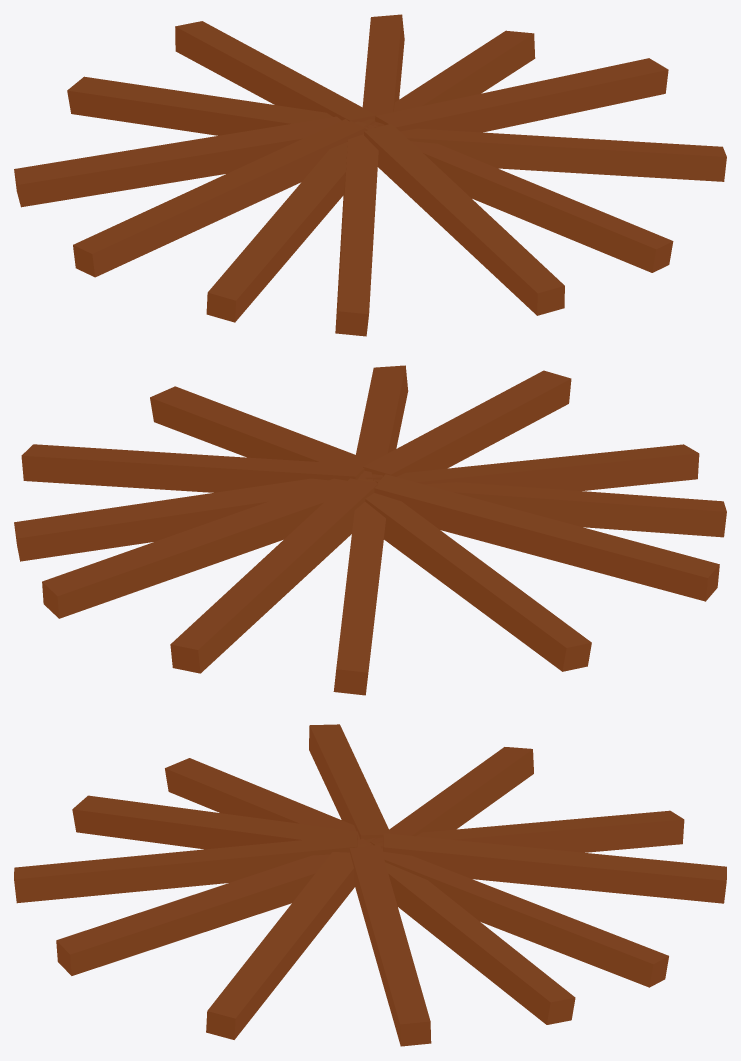
File: asset_campfire.glb
The picture shows the model from 3 angles, top to bottom: view 1: azimuth 30°, elevation 25°; view 2: azimuth 150°, elevation 25°; view 3: azimuth 270°, elevation 25°; orthographic projection. The views are drawn at different scales.
Visible parts, largest first — view 1: Cube; view 2: Cube; view 3: Cube.
Boxes of the visible parts, x1,y1,x2,y2 form: Cube: [14, 14, 726, 336]; Cube: [14, 365, 726, 695]; Cube: [14, 724, 726, 1046].
Bounding box in the file's own units: 4.11 × 0.4221 × 4.13.
